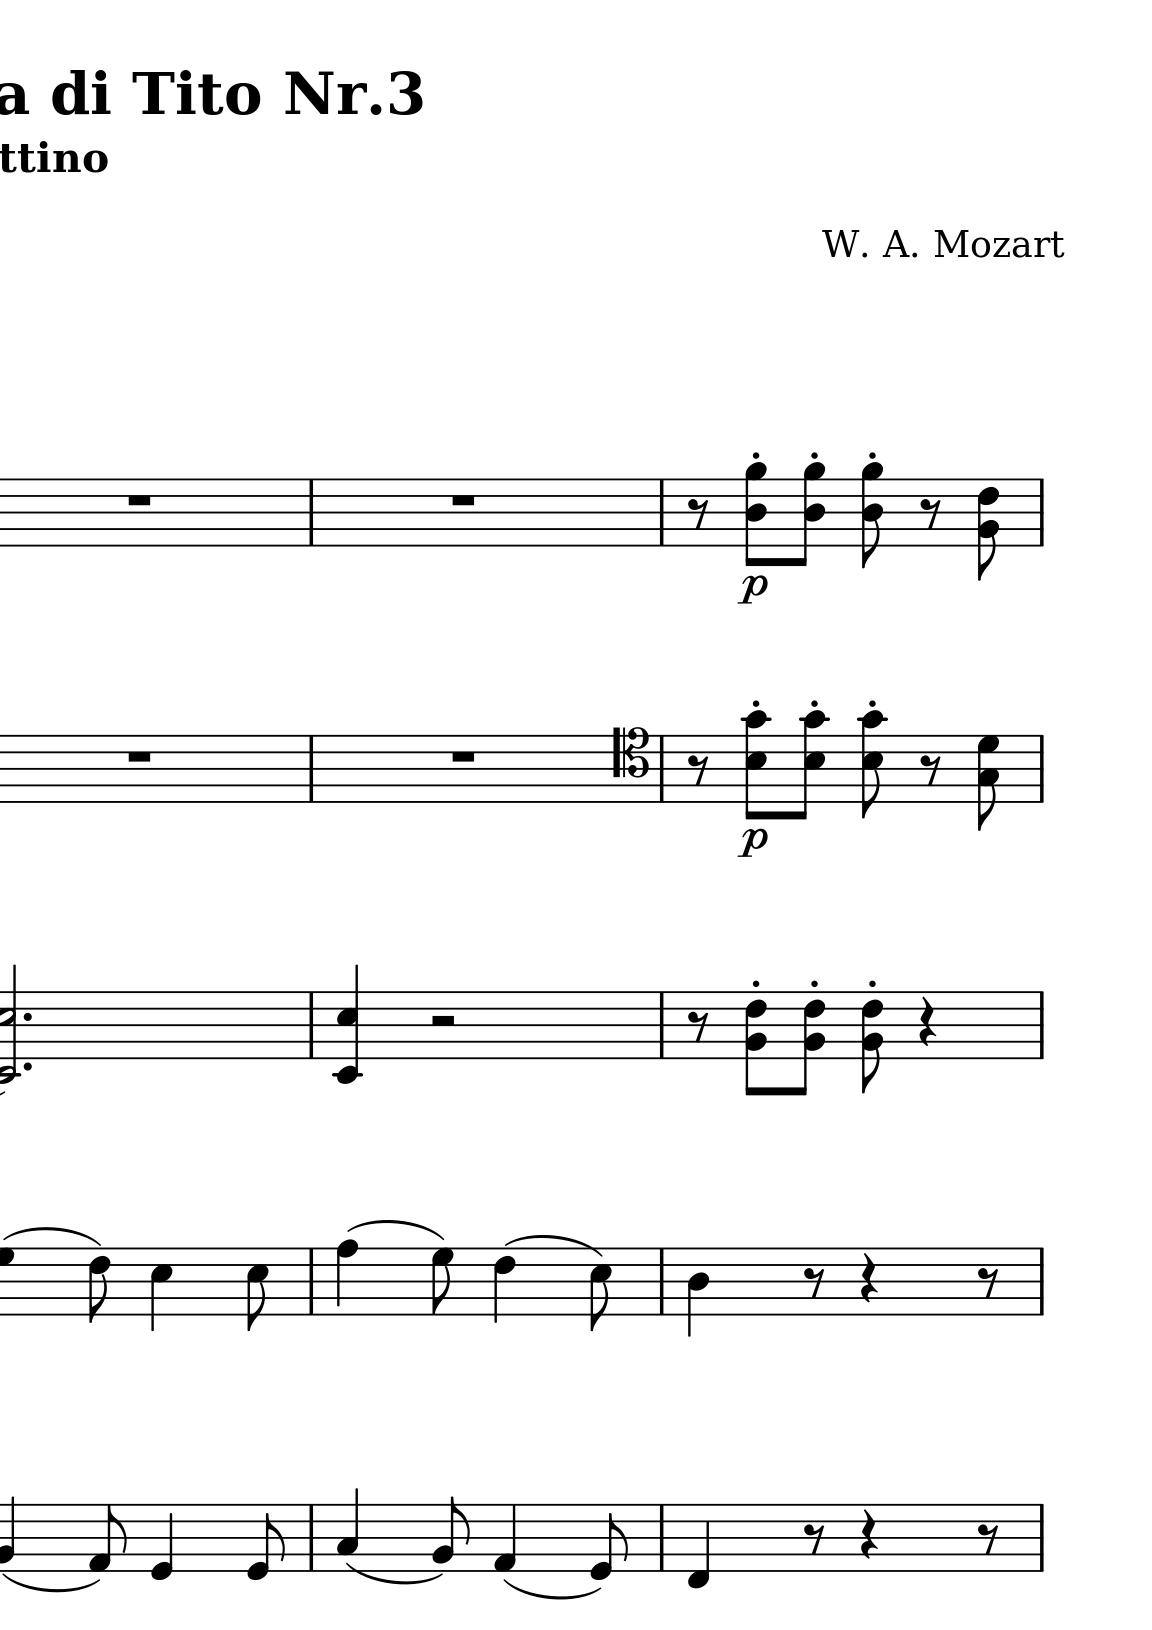4_-1: (684, 1502, 709, 1591)
4_-2_5: (332, 965, 364, 1085)
4_0: (147, 1503, 175, 1583)
4_1: (491, 1503, 517, 1574)
4_3: (334, 1487, 359, 1573)
4_4: (684, 1246, 709, 1338)
4_5: (148, 1245, 173, 1333)
4_6: (491, 1246, 517, 1325)
4_8: (332, 1237, 358, 1318)
8_0: (590, 1503, 628, 1581), (246, 1503, 283, 1581)
8_1: (86, 1502, 128, 1573)
8_2: (430, 1495, 469, 1571)
8_2_6: (797, 989, 827, 1098), (859, 989, 886, 1094), (744, 989, 769, 1098), (976, 476, 1001, 578)
8_3_7: (975, 734, 1001, 830)
8_4_9: (797, 461, 827, 567), (862, 461, 885, 570), (744, 460, 768, 567)
8_5: (244, 1246, 269, 1333), (587, 1247, 612, 1333)
8_5_10: (793, 709, 830, 820), (741, 710, 772, 822), (857, 710, 888, 822)
8_6: (86, 1246, 111, 1323)
8_7: (429, 1247, 453, 1317)
Rests1: (123, 746, 155, 766), (448, 746, 478, 766), (123, 490, 155, 508), (448, 491, 478, 508)
Rests2: (426, 1012, 458, 1031)
Rests4: (857, 1251, 878, 1306), (858, 1508, 878, 1561), (918, 994, 936, 1048)
Rests8: (918, 751, 943, 788), (918, 496, 943, 531), (684, 753, 709, 788), (800, 1265, 825, 1300), (800, 1522, 825, 1556), (684, 497, 709, 531), (686, 1009, 709, 1044), (976, 1265, 1000, 1300), (976, 1522, 1000, 1556)
Single_barline: (302, 479, 319, 546), (302, 735, 319, 803), (302, 992, 319, 1059), (1032, 1247, 1050, 1315), (1032, 1505, 1050, 1571), (303, 1249, 320, 1313), (302, 1505, 319, 1570), (1034, 991, 1050, 1059), (653, 479, 670, 545), (653, 736, 670, 803), (653, 992, 670, 1058), (653, 1505, 670, 1571), (653, 1249, 670, 1313), (1034, 479, 1049, 546), (1034, 735, 1049, 803)
Slur: (505, 1234, 603, 1261), (502, 1578, 605, 1601), (348, 1218, 444, 1242), (347, 1561, 441, 1586), (4, 1226, 98, 1250), (1, 1571, 100, 1594)
Tensor_Cclef: (610, 724, 650, 804)
dot: (20, 1009, 32, 1024), (20, 1060, 32, 1073)
p: (736, 572, 769, 608), (736, 825, 768, 861)
